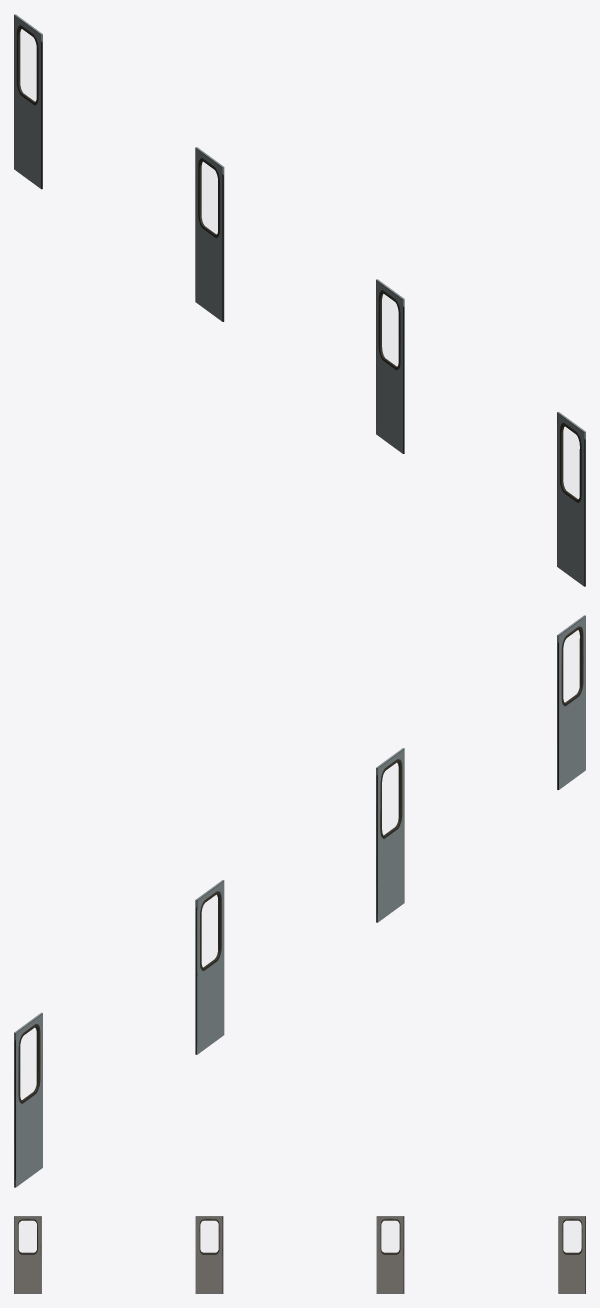
Rendered from SubwayTrain02_DoorR1.FBX.
3 renders of one model, top to bottom at view 1: azimuth 30°, elevation 25°; view 2: azimuth 150°, elevation 25°; view 3: azimuth 270°, elevation 25°, orthographic. The views are drawn at different scales.
Visible parts, largest first — view 1: SubwayTrain02_DoorR1; view 2: SubwayTrain02_DoorR1; view 3: SubwayTrain02_DoorR1.
Boxes of the visible parts, x1,y1,x2,y2 form: SubwayTrain02_DoorR1: [14, 14, 585, 586]; SubwayTrain02_DoorR1: [14, 615, 585, 1187]; SubwayTrain02_DoorR1: [14, 1216, 585, 1293].
Size of the model in its own units: 31.8 by 2619 by 17517.
